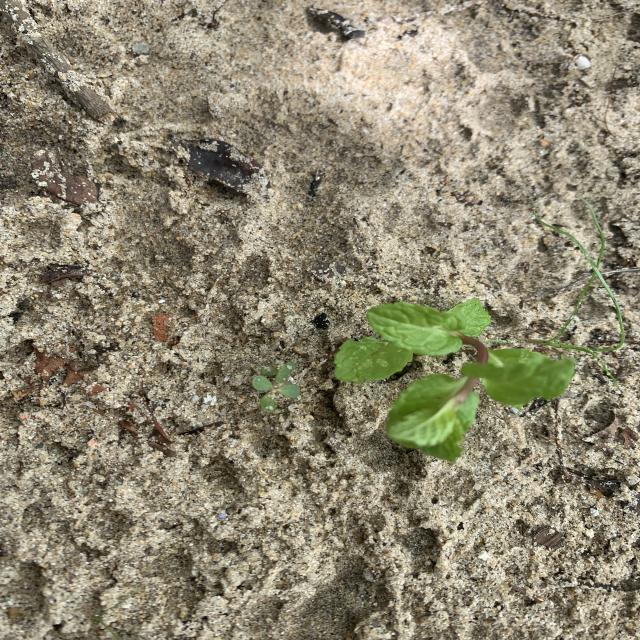crop: (335, 299, 576, 462)
weed: (534, 200, 625, 352), (252, 361, 301, 413)
